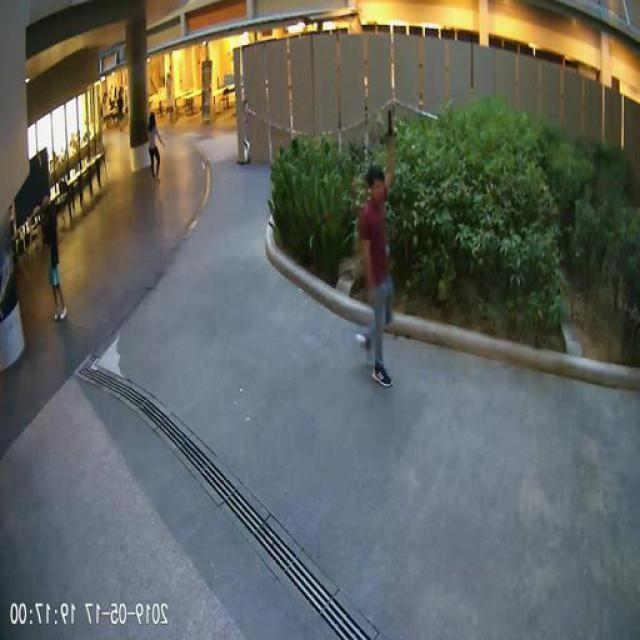weapon: (386, 109, 398, 139)
